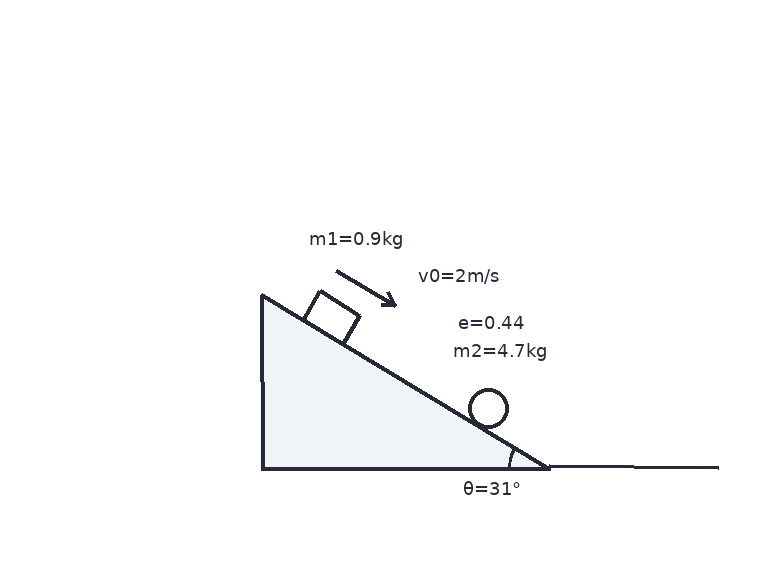ball: (466, 386, 510, 430)
block: (300, 289, 362, 346)
ramp: (258, 292, 551, 470)
